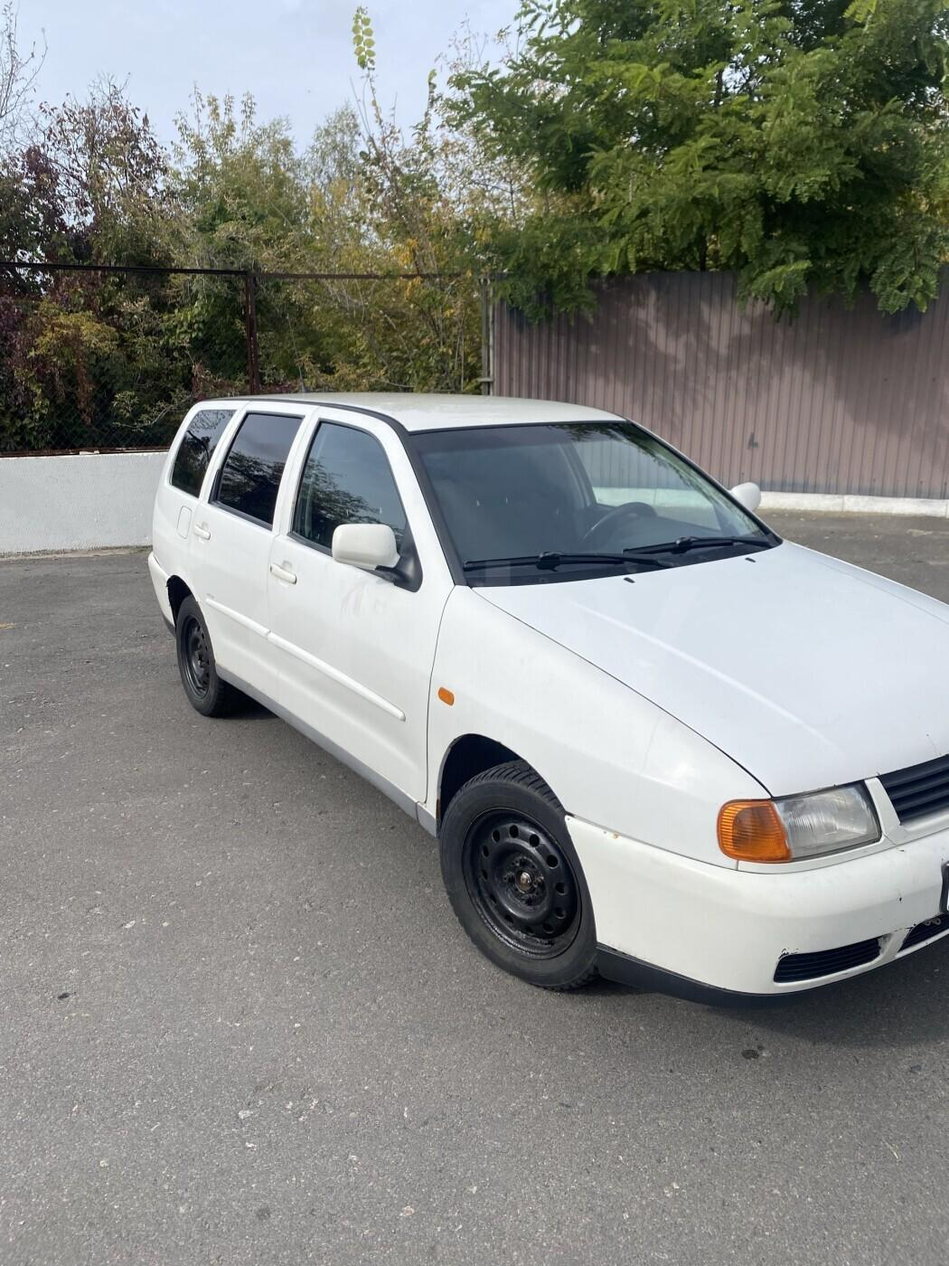Polo_1994-2002: (146, 386, 948, 1038)
